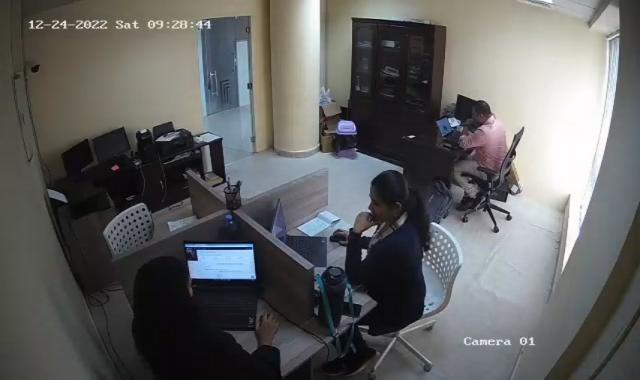no_hairnet: (135, 259, 195, 314), (367, 170, 410, 220), (468, 99, 492, 123)
